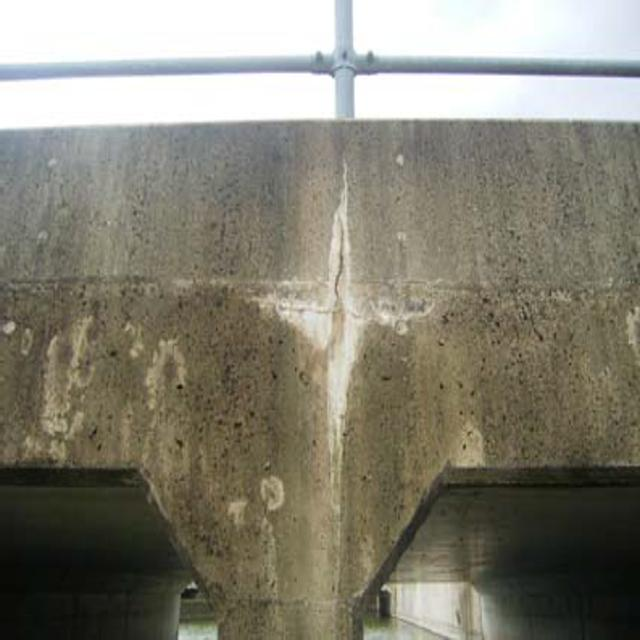freelime: (264, 177, 383, 454)
